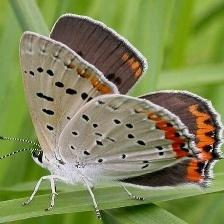butterfly: (20, 14, 223, 187)
